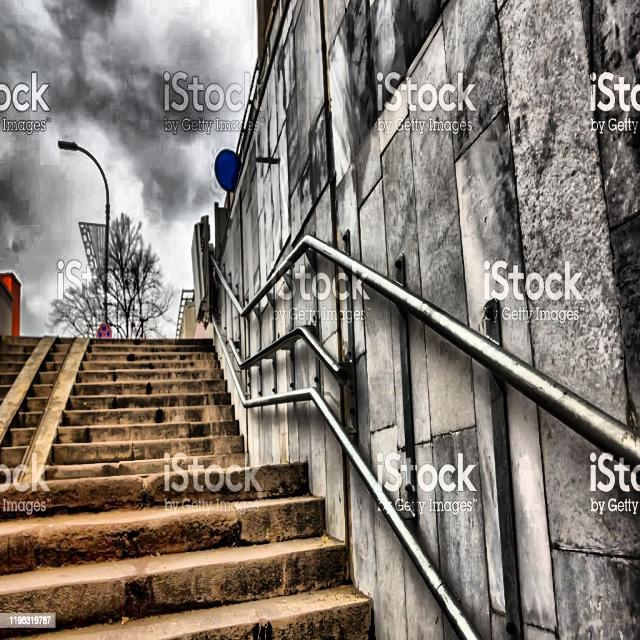escada: (1, 465, 374, 640), (50, 328, 252, 480)
